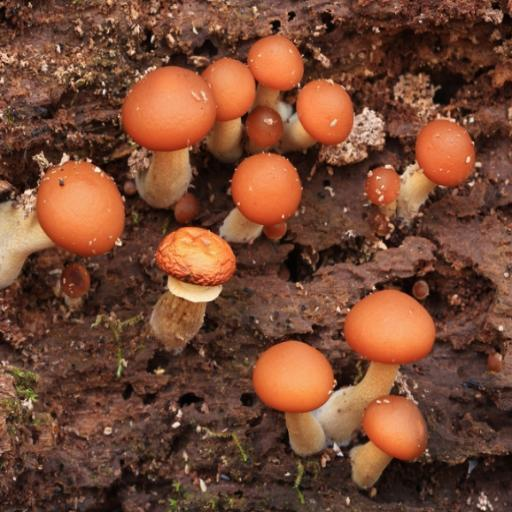mushroom: (126, 32, 477, 237), (251, 279, 443, 487), (7, 157, 127, 301)
